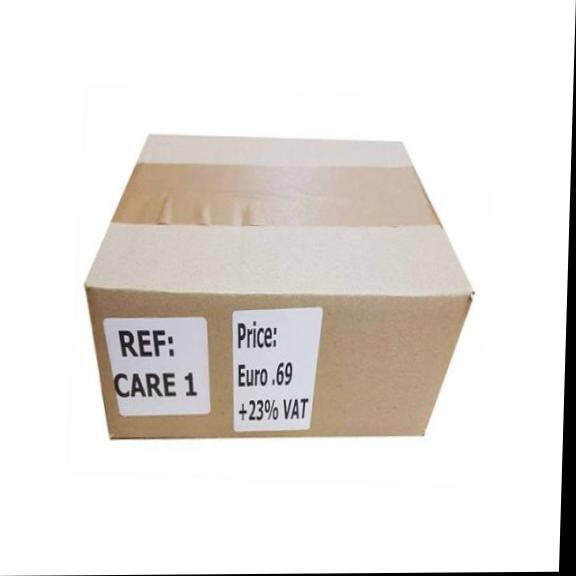Kertas: (86, 135, 472, 436)
